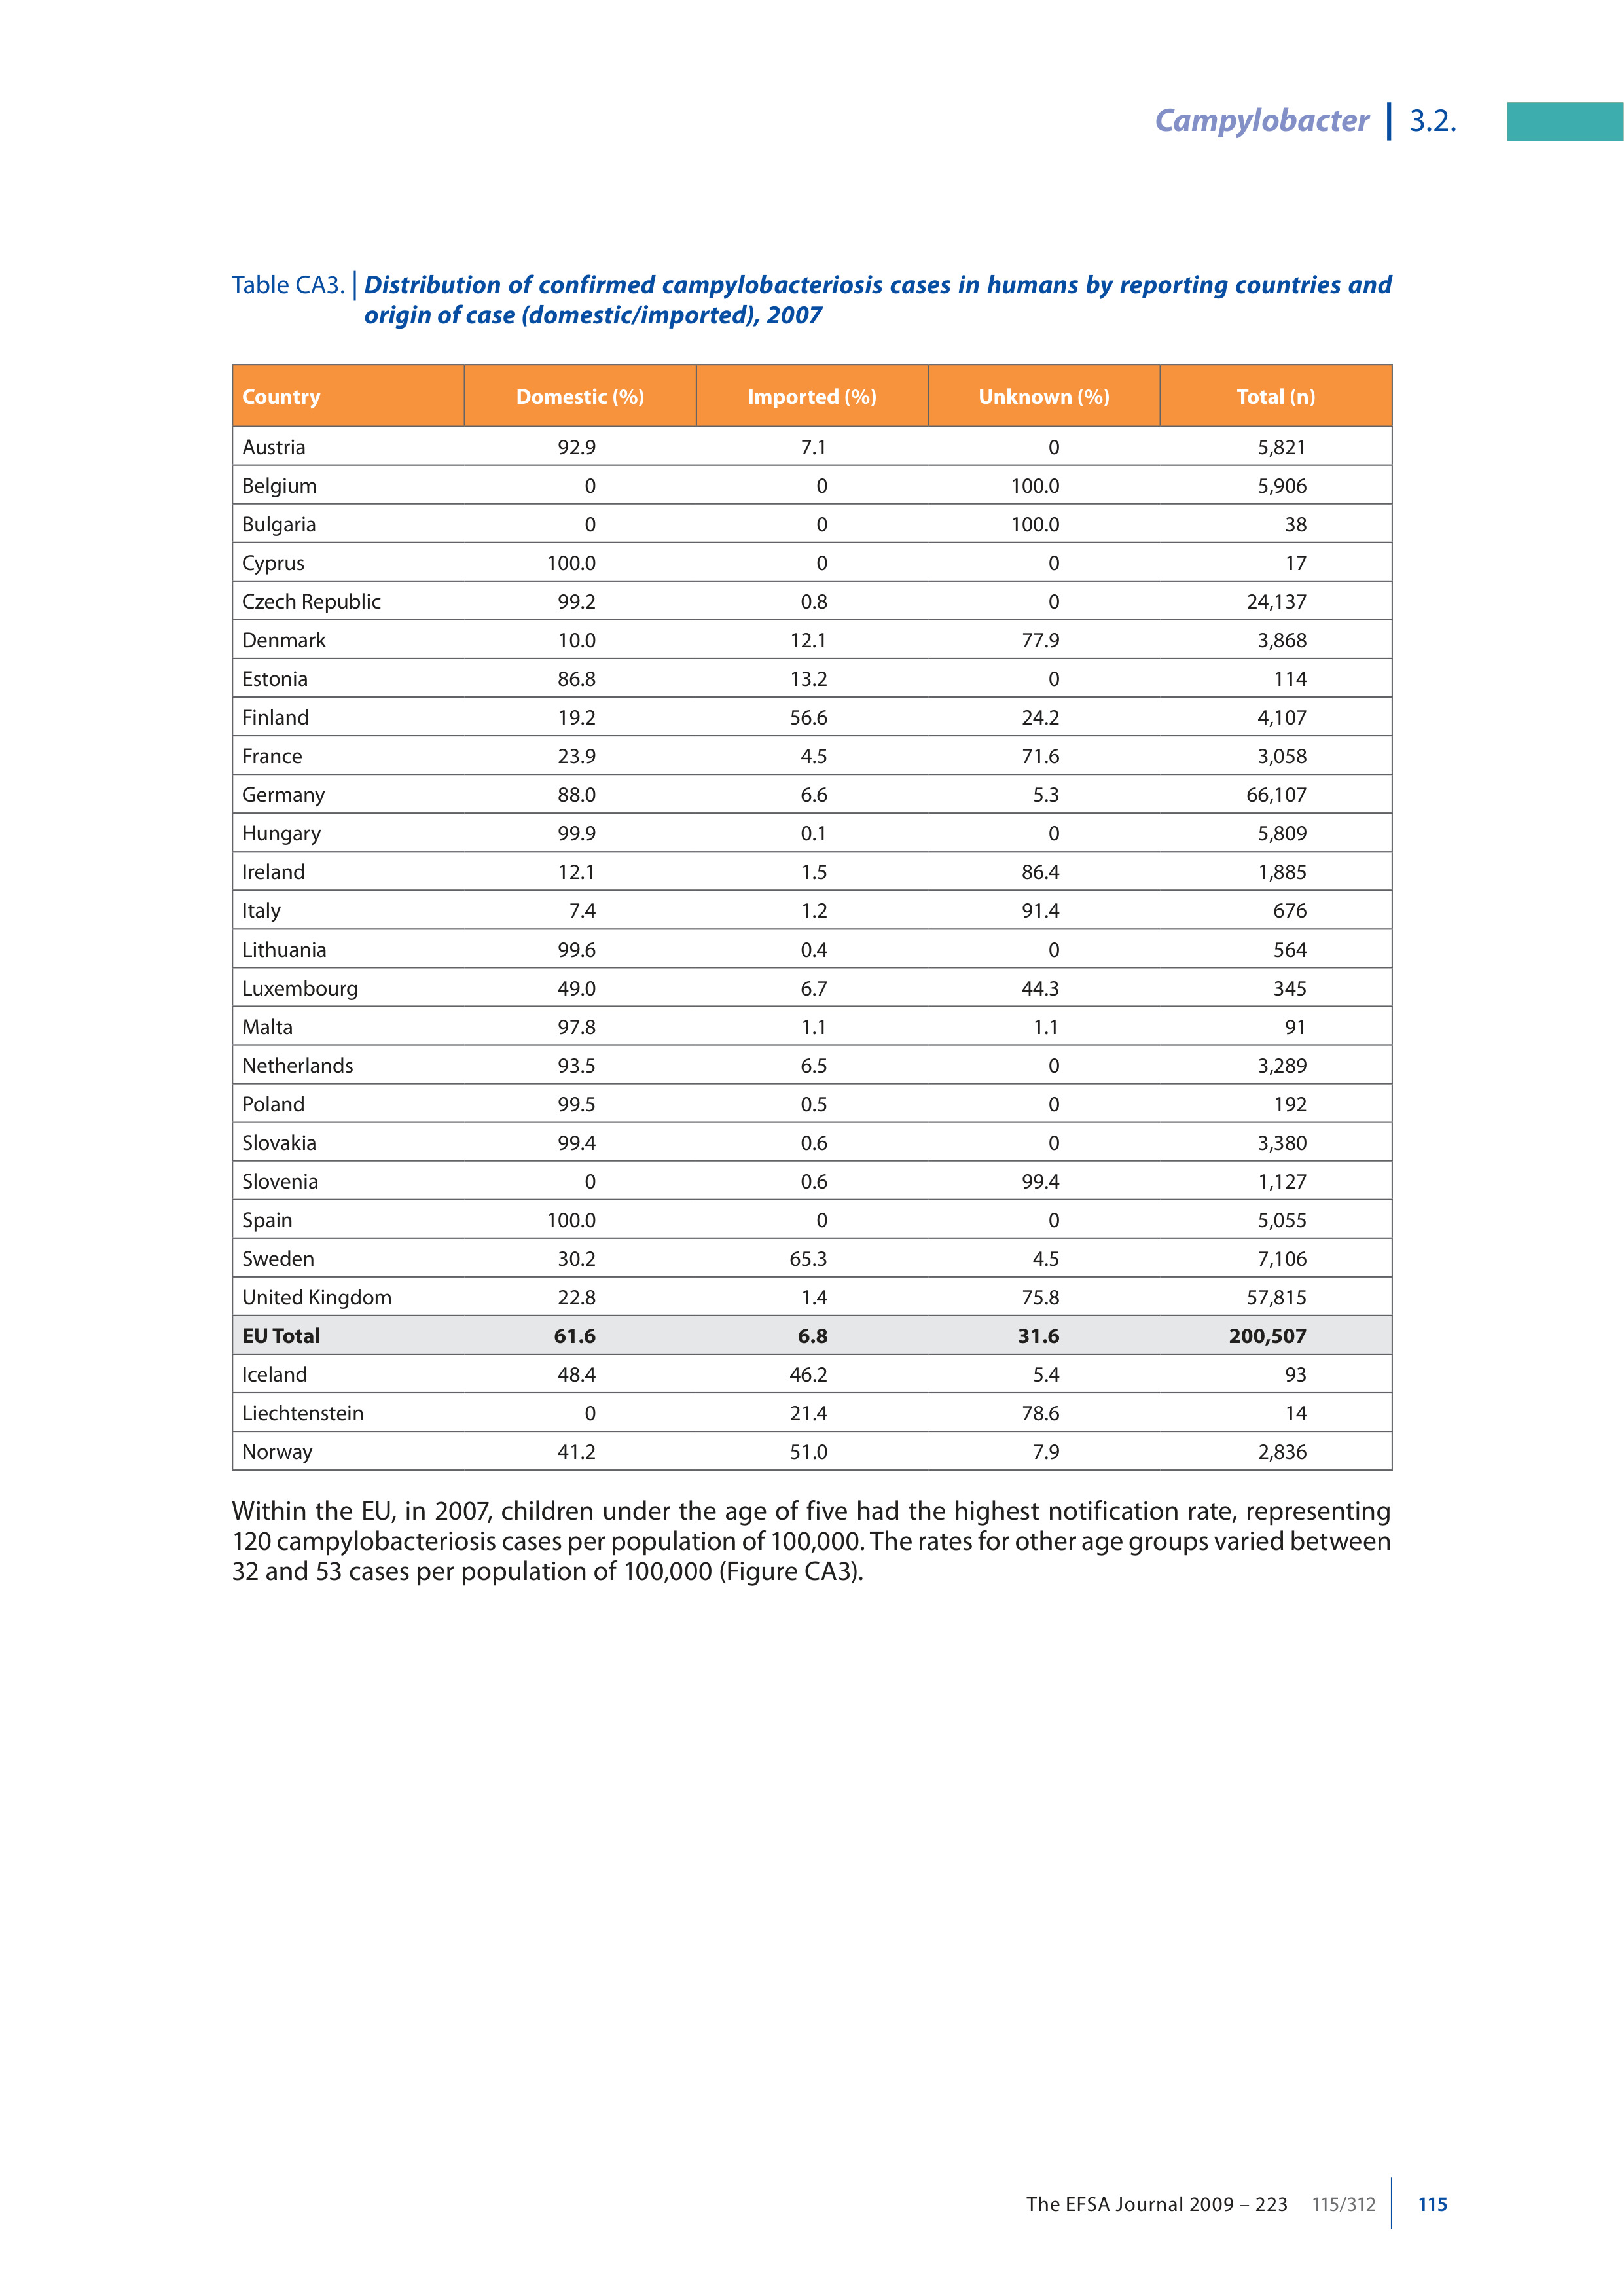table: (241, 381, 1316, 1463)
